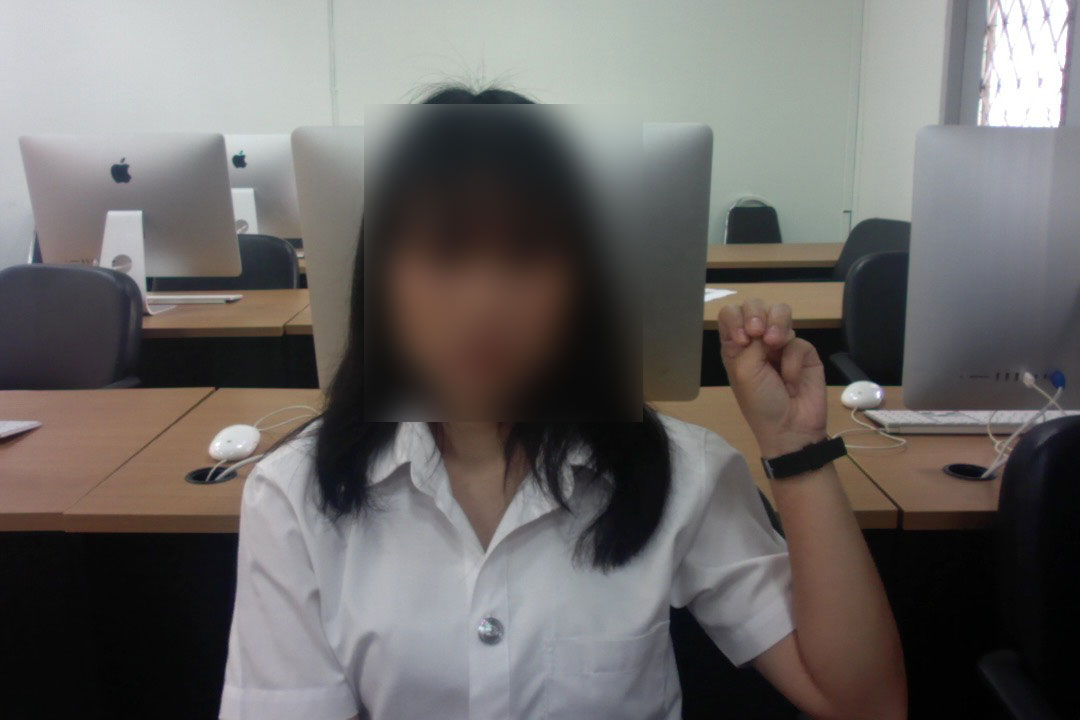mor: (715, 293, 833, 451)
